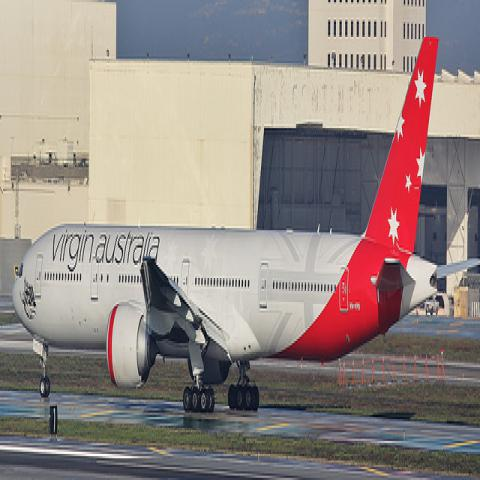car: (426, 301, 439, 318)
